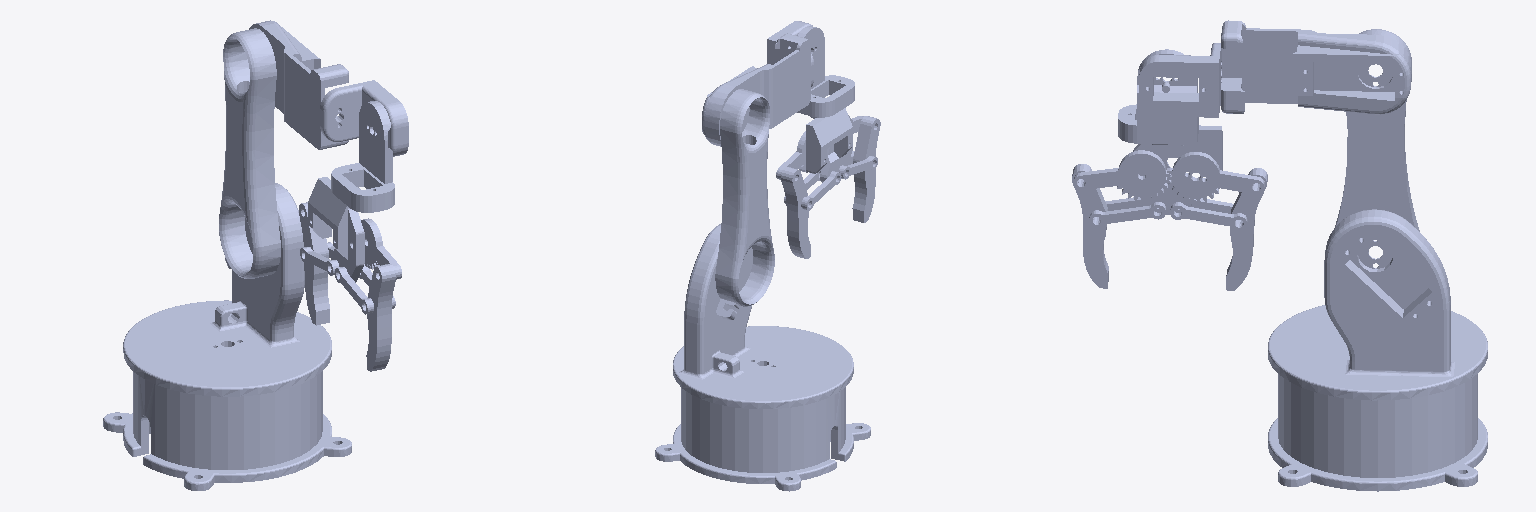
URDF robot description (Ensamblaje_urdf):
<?xml version="1.0" encoding="utf-8"?>
<!-- This URDF was automatically created by SolidWorks to URDF Exporter! Originally created by [author] ([email redacted]) 
     Commit Version: 1.6.0-4-g7f85cfe  Build Version: 1.6.7995.38578
     For more information, please see http://wiki.ros.org/sw_urdf_exporter -->
<robot
  name="Ensamblaje_urdf">
  <link
    name="base_link">
    <inertial>
      <origin
        xyz="0.0322200031928641 -0.0972638754653942 0.0682998161287198"
        rpy="0 0 0" />
      <mass
        value="0.0928157775981503" />
      <inertia
        ixx="0.00012358859726169"
        ixy="1.14801443425231E-11"
        ixz="-4.73698084084223E-07"
        iyy="0.000126689267362342"
        iyz="-5.28795503932424E-13"
        izz="0.00020772682148484" />
    </inertial>
    <visual>
      <origin
        xyz="0 0 0"
        rpy="0 0 0" />
      <geometry>
        <mesh
          filename="package://Ensamblaje_urdf/meshes/base_link.STL" />
      </geometry>
      <material
        name="">
        <color
          rgba="0.792156862745098 0.819607843137255 0.933333333333333 1" />
      </material>
    </visual>
    <collision>
      <origin
        xyz="0 0 0"
        rpy="0 0 0" />
      <geometry>
        <mesh
          filename="package://Ensamblaje_urdf/meshes/base_link.STL" />
      </geometry>
    </collision>
  </link>
  <link
    name="Link_1">
    <inertial>
      <origin
        xyz="0.00278772445519503 -0.0141950931892659 0.0733291965973253"
        rpy="0 0 0" />
      <mass
        value="0.10003518295232" />
      <inertia
        ixx="0.000122799776913774"
        ixy="4.12500445411747E-06"
        ixz="1.20108368273671E-07"
        iyy="0.000120144028517051"
        iyz="2.63430760804859E-05"
        izz="0.000107089049002799" />
    </inertial>
    <visual>
      <origin
        xyz="0 0 0"
        rpy="0 0 0" />
      <geometry>
        <mesh
          filename="package://Ensamblaje_urdf/meshes/Link_1.STL" />
      </geometry>
      <material
        name="">
        <color
          rgba="0.792156862745098 0.819607843137255 0.933333333333333 1" />
      </material>
    </visual>
    <collision>
      <origin
        xyz="0 0 0"
        rpy="0 0 0" />
      <geometry>
        <mesh
          filename="package://Ensamblaje_urdf/meshes/Link_1.STL" />
      </geometry>
    </collision>
  </link>
  <joint
    name="Joint_1"
    type="revolute">
    <origin
      xyz="0.030772 -0.097264 0.046511"
      rpy="0 0 1.5708" />
    <parent
      link="base_link" />
    <child
      link="Link_1" />
    <axis
      xyz="0 0 1" />
    <limit
      lower="-3.141"
      upper="3.141"
      effort="0"
      velocity="0" />
    <dynamics
      damping="0"
      friction="0.1" />
    <safety_controller
      k_position="0"
      k_velocity="0" />
  </joint>
  <link
    name="Link_2">
    <inertial>
      <origin
        xyz="0.000231483465368554 0.0448524809778406 -0.00620921823174211"
        rpy="0 0 0" />
      <mass
        value="0.0383597436321771" />
      <inertia
        ixx="4.75901215375013E-05"
        ixy="1.54017349339291E-09"
        ixz="2.8786565322307E-10"
        iyy="5.82653742847696E-06"
        iyz="1.3208454074679E-07"
        izz="5.1669781361695E-05" />
    </inertial>
    <visual>
      <origin
        xyz="0 0 0"
        rpy="0 0 0" />
      <geometry>
        <mesh
          filename="package://Ensamblaje_urdf/meshes/Link_2.STL" />
      </geometry>
      <material
        name="">
        <color
          rgba="0.792156862745098 0.819607843137255 0.933333333333333 1" />
      </material>
    </visual>
    <collision>
      <origin
        xyz="0 0 0"
        rpy="0 0 0" />
      <geometry>
        <mesh
          filename="package://Ensamblaje_urdf/meshes/Link_2.STL" />
      </geometry>
    </collision>
  </link>
  <joint
    name="Joint_2"
    type="revolute">
    <origin
      xyz="-0.001086 -0.018969 0.115"
      rpy="1.5708 0 -0.057192" />
    <parent
      link="Link_1" />
    <child
      link="Link_2" />
    <axis
      xyz="0 0 1" />
    <limit
      lower="-0.5236"
      upper="0.5236"
      effort="0"
      velocity="0" />
    <dynamics
      damping="0"
      friction="0.1" />
  </joint>
  <link
    name="Link_3">
    <inertial>
      <origin
        xyz="0.00069688652357075 0.0285969895596061 0.00472408915627993"
        rpy="0 0 0" />
      <mass
        value="0.022856319141086" />
      <inertia
        ixx="1.93782373103848E-05"
        ixy="2.43218398683254E-07"
        ixz="-9.70757716608975E-08"
        iyy="4.27927798197262E-06"
        iyz="9.7830928761133E-07"
        izz="2.25595940011992E-05" />
    </inertial>
    <visual>
      <origin
        xyz="0 0 0"
        rpy="0 0 0" />
      <geometry>
        <mesh
          filename="package://Ensamblaje_urdf/meshes/Link_3.STL" />
      </geometry>
      <material
        name="">
        <color
          rgba="0.792156862745098 0.819607843137255 0.933333333333333 1" />
      </material>
    </visual>
    <collision>
      <origin
        xyz="0 0 0"
        rpy="0 0 0" />
      <geometry>
        <mesh
          filename="package://Ensamblaje_urdf/meshes/Link_3.STL" />
      </geometry>
    </collision>
  </link>
  <joint
    name="Joint_3"
    type="revolute">
    <origin
      xyz="0 0.1 0"
      rpy="0 0 1.5708" />
    <parent
      link="Link_2" />
    <child
      link="Link_3" />
    <axis
      xyz="0 0 1" />
    <limit
      lower="-1.57"
      upper="0.349"
      effort="0"
      velocity="0" />
    <dynamics
      damping="0"
      friction="0.1" />
  </joint>
  <link
    name="Link_4">
    <inertial>
      <origin
        xyz="-3.78071672302305E-08 -0.0141973642744543 0.0094781833411583"
        rpy="0 0 0" />
      <mass
        value="0.0113759959526115" />
      <inertia
        ixx="2.51677425585892E-06"
        ixy="2.40552043367948E-12"
        ixz="9.84837637127155E-13"
        iyy="2.81625542924752E-06"
        iyz="5.27073778452652E-07"
        izz="1.65302197957633E-06" />
    </inertial>
    <visual>
      <origin
        xyz="0 0 0"
        rpy="0 0 0" />
      <geometry>
        <mesh
          filename="package://Ensamblaje_urdf/meshes/Link_4.STL" />
      </geometry>
      <material
        name="">
        <color
          rgba="0.792156862745098 0.819607843137255 0.933333333333333 1" />
      </material>
    </visual>
    <collision>
      <origin
        xyz="0 0 0"
        rpy="0 0 0" />
      <geometry>
        <mesh
          filename="package://Ensamblaje_urdf/meshes/Link_4.STL" />
      </geometry>
    </collision>
  </link>
  <joint
    name="Joint_4"
    type="revolute">
    <origin
      xyz="0.0001 0.08175 0.0057"
      rpy="-1.5708 0 0" />
    <parent
      link="Link_3" />
    <child
      link="Link_4" />
    <axis
      xyz="0 0 1" />
    <limit
      lower="-3.141"
      upper="3.141"
      effort="0"
      velocity="0" />
    <dynamics
      damping="0"
      friction="0.1" />
  </joint>
  <link
    name="Link_5">
    <inertial>
      <origin
        xyz="0.0208486821058811 -0.00257109803423941 -0.00309788620131497"
        rpy="0 0 0" />
      <mass
        value="0.0107896310002059" />
      <inertia
        ixx="1.97765495148531E-06"
        ixy="2.54145617231578E-07"
        ixz="5.22877586744952E-07"
        iyy="2.55158744881832E-06"
        iyz="-1.42188893551761E-07"
        izz="3.25794643895689E-06" />
    </inertial>
    <visual>
      <origin
        xyz="0 0 0"
        rpy="0 0 0" />
      <geometry>
        <mesh
          filename="package://Ensamblaje_urdf/meshes/Link_5.STL" />
      </geometry>
      <material
        name="">
        <color
          rgba="0.792156862745098 0.819607843137255 0.933333333333333 1" />
      </material>
    </visual>
    <collision>
      <origin
        xyz="0 0 0"
        rpy="0 0 0" />
      <geometry>
        <mesh
          filename="package://Ensamblaje_urdf/meshes/Link_5.STL" />
      </geometry>
    </collision>
  </link>
  <joint
    name="Joint_5"
    type="revolute">
    <origin
      xyz="0 -0.008 0.0215"
      rpy="-1.5708 0 -3.1416" />
    <parent
      link="Link_4" />
    <child
      link="Link_5" />
    <axis
      xyz="0 0 1" />
    <limit
      lower="-3.141"
      upper="0.174"
      effort="0"
      velocity="0" />
    <dynamics
      damping="0"
      friction="0.1" />
  </joint>
  <link
    name="Link_6">
    <inertial>
      <origin
        xyz="-0.00419644542521305 0.00847430858350158 0.0175660111897017"
        rpy="0 0 0" />
      <mass
        value="0.010244216345748" />
      <inertia
        ixx="1.70306964541648E-06"
        ixy="8.89877895936239E-08"
        ixz="-3.62540376809284E-07"
        iyy="3.12287490214869E-06"
        iyz="-2.46249081095049E-08"
        izz="1.66738915895251E-06" />
    </inertial>
    <visual>
      <origin
        xyz="0 0 0"
        rpy="0 0 0" />
      <geometry>
        <mesh
          filename="package://Ensamblaje_urdf/meshes/Link_6.STL" />
      </geometry>
      <material
        name="">
        <color
          rgba="0.792156862745098 0.819607843137255 0.933333333333333 1" />
      </material>
    </visual>
    <collision>
      <origin
        xyz="0 0 0"
        rpy="0 0 0" />
      <geometry>
        <mesh
          filename="package://Ensamblaje_urdf/meshes/Link_6.STL" />
      </geometry>
    </collision>
  </link>
  <joint
    name="Joint_6"
    type="revolute">
    <origin
      xyz="0.035 -0.0001 -0.0083"
      rpy="-1.5708 0 -1.5708" />
    <parent
      link="Link_5" />
    <child
      link="Link_6" />
    <axis
      xyz="0 0 1" />
    <limit
      lower="-3.141"
      upper="3.141"
      effort="0"
      velocity="0" />
    <dynamics
      damping="0"
      friction="0.1" />
  </joint>
  <link
    name="Gear_1">
    <inertial>
      <origin
        xyz="-0.0159803230581214 0.00254770351597362 0.0220162492775055"
        rpy="0 0 0" />
      <mass
        value="0.00932837809791009" />
      <inertia
        ixx="1.71058933566103E-06"
        ixy="1.39838757948382E-11"
        ixz="-1.86386638287429E-07"
        iyy="2.28518615168447E-06"
        iyz="1.01831472675047E-12"
        izz="6.4907237607115E-07" />
    </inertial>
    <visual>
      <origin
        xyz="0 0 0"
        rpy="0 0 0" />
      <geometry>
        <mesh
          filename="package://Ensamblaje_urdf/meshes/Gear_1.STL" />
      </geometry>
      <material
        name="">
        <color
          rgba="0.792156862745098 0.819607843137255 0.933333333333333 1" />
      </material>
    </visual>
    <collision>
      <origin
        xyz="0 0 0"
        rpy="0 0 0" />
      <geometry>
        <mesh
          filename="package://Ensamblaje_urdf/meshes/Gear_1.STL" />
      </geometry>
    </collision>
  </link>
  <joint
    name="joint_gear1"
    type="revolute">
    <origin
      xyz="-0.0139 0.0015 0.0225"
      rpy="0 0 0" />
    <parent
      link="Link_6" />
    <child
      link="Gear_1" />
    <axis
      xyz="0 1 0" />
    <limit
      lower="-0.523"
      upper="0.523"
      effort="0"
      velocity="0" />
  </joint>
  <link
    name="Gear_2">
    <inertial>
      <origin
        xyz="0.0166748141124543 0.00652318437293002 0.0220996277108557"
        rpy="0 0 0" />
      <mass
        value="0.00937899887669891" />
      <inertia
        ixx="1.72952396386454E-06"
        ixy="1.3931041884486E-11"
        ixz="1.22138693578522E-07"
        iyy="2.28532315025334E-06"
        iyz="-1.59582930732001E-12"
        izz="6.30409734745686E-07" />
    </inertial>
    <visual>
      <origin
        xyz="0 0 0"
        rpy="0 0 0" />
      <geometry>
        <mesh
          filename="package://Ensamblaje_urdf/meshes/Gear_2.STL" />
      </geometry>
      <material
        name="">
        <color
          rgba="0.792156862745098 0.819607843137255 0.933333333333333 1" />
      </material>
    </visual>
    <collision>
      <origin
        xyz="0 0 0"
        rpy="0 0 0" />
      <geometry>
        <mesh
          filename="package://Ensamblaje_urdf/meshes/Gear_2.STL" />
      </geometry>
    </collision>
  </link>
  <joint
    name="Joint_gear2"
    type="revolute">
    <origin
      xyz="0.013 -0.0025 0.0225"
      rpy="0 0 0" />
    <parent
      link="Link_6" />
    <child
      link="Gear_2" />
    <axis
      xyz="0 1 0" />
    <limit
      lower="-0.523"
      upper="0.523"
      effort="0"
      velocity="0" />
  </joint>
</robot>

--- What the picture shows (computed from the rendered views, not written in the file) ---
The picture shows the robot from 3 angles, left to right: view 1: azimuth 30°, elevation 25°; view 2: azimuth 150°, elevation 25°; view 3: azimuth 270°, elevation 25°; orthographic projection.
Robot: Ensamblaje_urdf — 9 links, 8 joints (8 revolute); root link base_link; default pose: every joint at zero.
Links seen in each view (by area): view 1: Link_1, base_link, Link_2, Link_3, Link_5, Gear_2, Link_4, Link_6, Gear_1; view 2: Link_1, base_link, Link_2, Link_3, Gear_1, Link_6, Gear_2, Link_5, Link_4; view 3: Link_1, base_link, Link_3, Link_2, Gear_1, Gear_2, Link_4, Link_5, Link_6.
Link boxes in pixels (box(x1,y1,x2,y2)): Link_1: box(123, 183, 331, 396); base_link: box(103, 371, 351, 490); Link_2: box(219, 28, 280, 278); Link_3: box(249, 20, 348, 149); Link_5: box(331, 101, 394, 212); Gear_2: box(335, 218, 401, 371); Link_4: box(320, 80, 408, 156); Link_6: box(308, 177, 364, 282); Gear_1: box(299, 202, 339, 325); Link_1: box(673, 224, 853, 408); base_link: box(655, 387, 870, 491); Link_2: box(715, 89, 774, 319); Link_3: box(702, 33, 810, 146); Gear_1: box(776, 131, 841, 258); Link_6: box(806, 108, 852, 182); Gear_2: box(838, 116, 880, 222); Link_5: box(797, 26, 854, 117); Link_4: box(767, 21, 813, 86); Link_1: box(1268, 209, 1487, 400); base_link: box(1268, 374, 1487, 491); Link_3: box(1221, 20, 1411, 114); Link_2: box(1335, 29, 1419, 268); Gear_1: box(1167, 152, 1267, 290); Gear_2: box(1072, 150, 1170, 288); Link_4: box(1139, 43, 1221, 117); Link_5: box(1118, 49, 1198, 144); Link_6: box(1133, 125, 1222, 214).
Size in the robot's own frame: 0.11 by 0.2078 by 0.239 metres.
9 mesh visuals loaded from 9 distinct referenced files (9 binary STL).